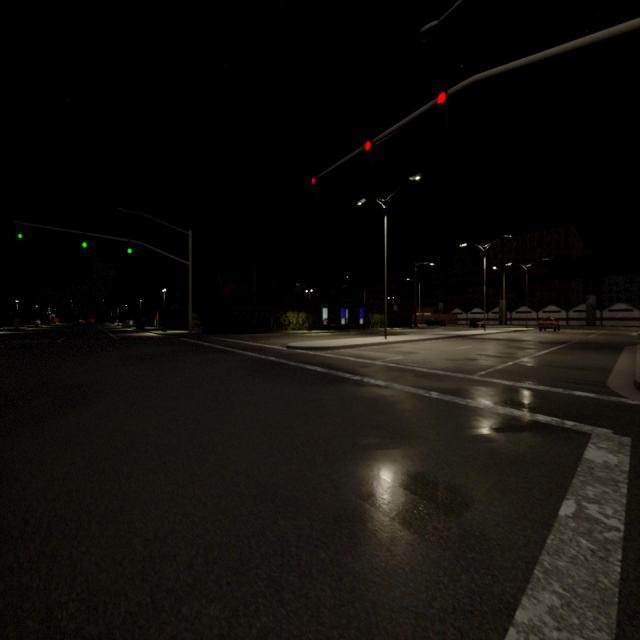Vehicle: (539, 317, 560, 331), (425, 318, 447, 327), (470, 318, 482, 328)
traffic_light: (437, 92, 447, 104), (82, 234, 87, 248), (18, 222, 22, 239), (127, 240, 132, 253), (364, 142, 371, 150), (312, 178, 316, 184)
